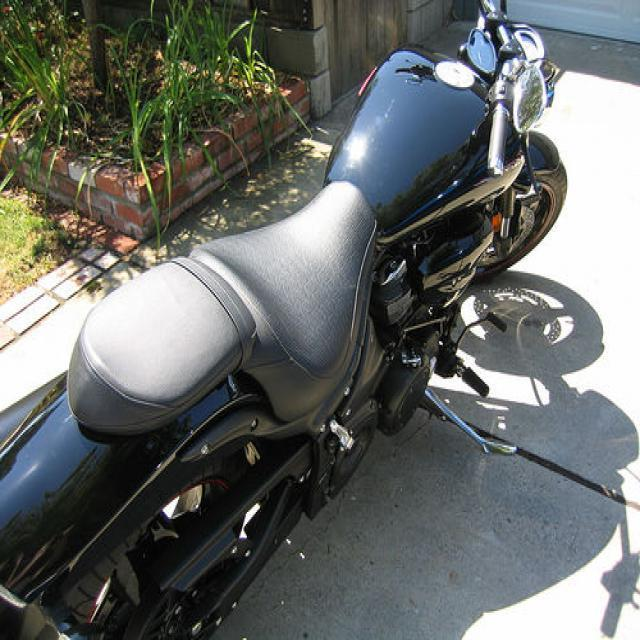Motorbike: (1, 1, 580, 640)
